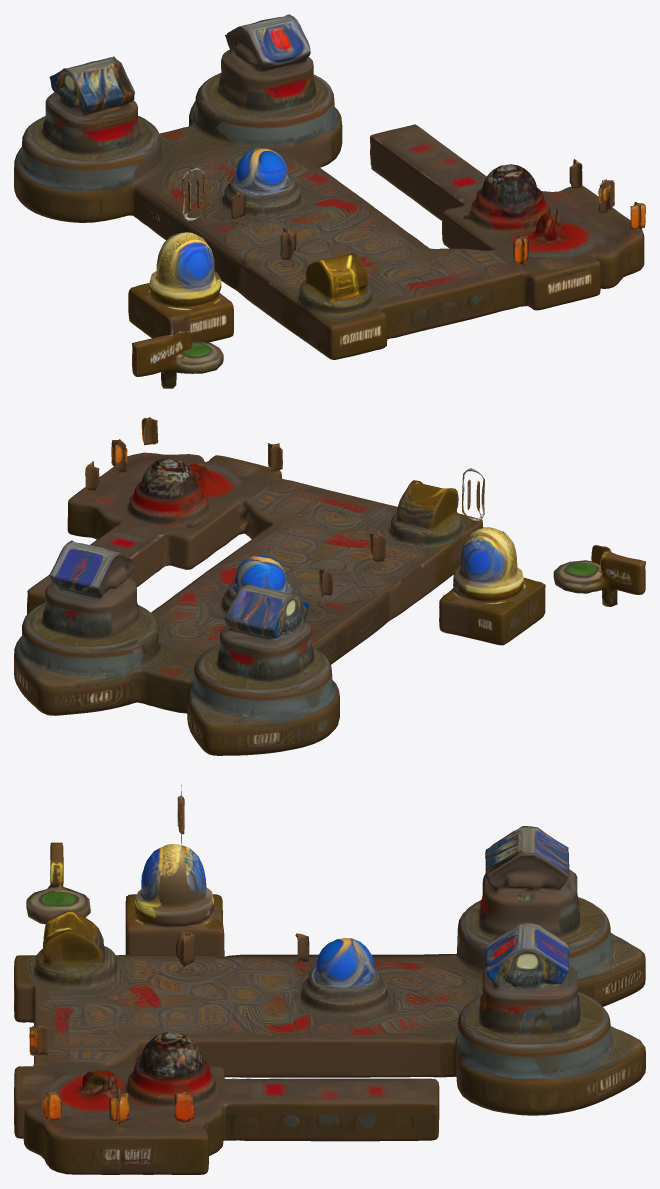
The model's file is world-terrain.glb.
3 renders of one model, top to bottom at view 1: azimuth 30°, elevation 25°; view 2: azimuth 150°, elevation 25°; view 3: azimuth 270°, elevation 25°, orthographic. The views are drawn at different scales.
Visible parts, largest first — view 1: model; view 2: model; view 3: model.
Part boxes in pixels (x1=…): model: x1=14, y1=14, x2=645, y2=388; model: x1=14, y1=417, x2=645, y2=755; model: x1=14, y1=784, x2=645, y2=1174.
Bounding box in the file's own units: 1.9 × 0.555 × 1.81.
1 material, 1 textured.
